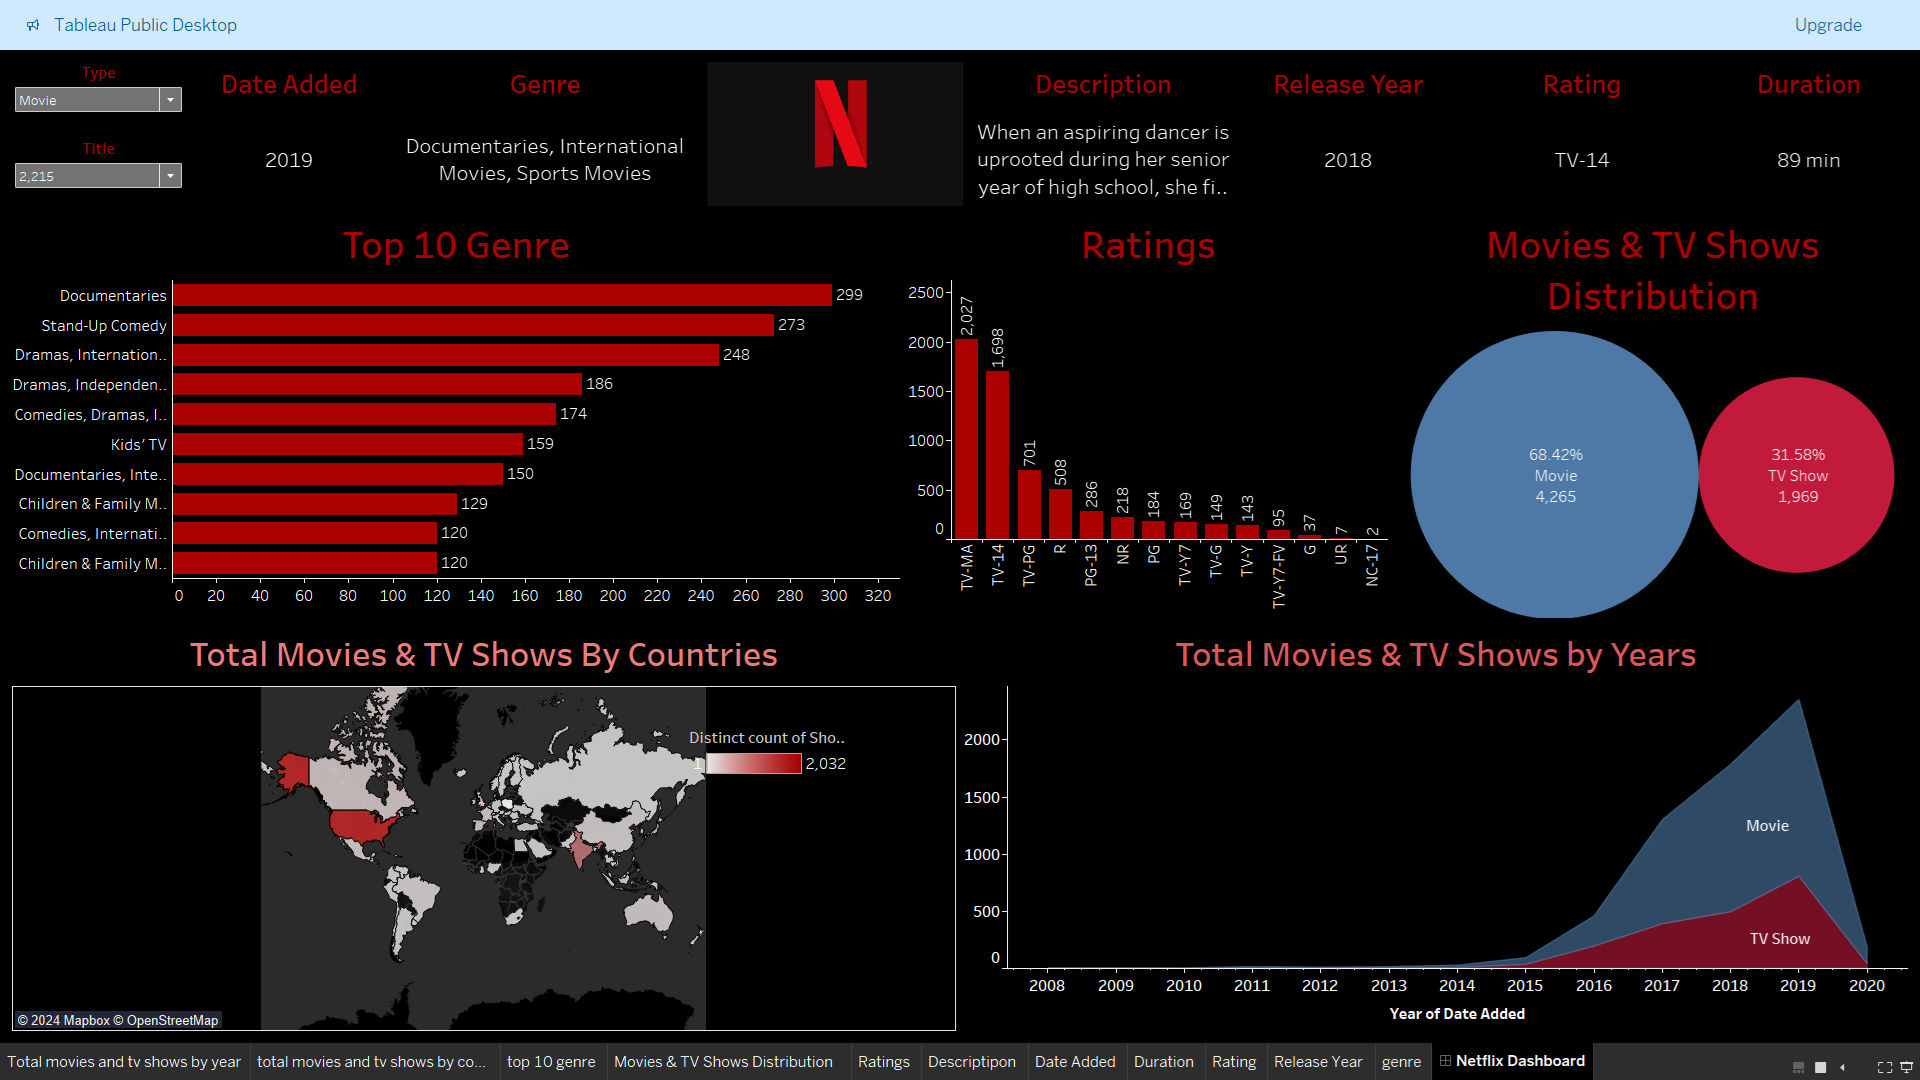

The dashboard page shown, as its layout file describes it:
{"tool":"tableau","page":{"name":"Netflix Dashboard","canvas":[1000,1000],"units":"permille","ordinal":0},"visuals":[{"type":"filter","title":"Duration","param":"[federated.0c9b0bf1ludx7x1439v7v0edgojx].[none:type:nk]","box":[4.8,10,94.1,76.2]},{"type":"worksheet","title":"Date Added","mark":"Automatic","box":[99,10,103.8,152.3]},{"type":"worksheet","title":"genre","mark":"Automatic","box":[202.8,10,162.3,152.3]},{"type":"image","param":"Image/Netflix_Image.png","box":[365.1,10,139.4,152.3]},{"type":"worksheet","title":"Descriptipon","mark":"Automatic","box":[504.5,10,139.4,152.3]},{"type":"worksheet","title":"Release Year","mark":"Automatic","box":[643.9,10,115.3,152.3]},{"type":"worksheet","title":"Rating","mark":"Automatic","box":[759.2,10,128.6,152.3]},{"type":"worksheet","title":"Duration","mark":"Automatic","box":[887.8,10,107.4,152.3]},{"type":"filter","title":"Duration","param":"[federated.0c9b0bf1ludx7x1439v7v0edgojx].[none:title:nk]","box":[4.8,86.2,94.1,76.2]},{"type":"worksheet","title":"top 10 genre","mark":"Automatic","rows":["listed_in"],"cols":["show_id"],"box":[4.8,162.3,466.1,413.9]},{"type":"worksheet","title":"Ratings","mark":"Automatic","rows":["show_id"],"cols":["rating"],"box":[470.9,162.3,254.1,413.9]},{"type":"worksheet","title":"Movies & TV Shows Distribution","mark":"Circle","box":[725,162.3,270.2,413.9]},{"type":"worksheet","title":"total movies and tv shows by countries","mark":"Multipolygon","box":[4.8,576.2,495.2,413.9]},{"type":"worksheet","title":"Total movies and tv shows by year","mark":"Area","rows":["show_id"],"cols":["date_added"],"box":[500,576.2,495.2,413.9]},{"type":"legend","title":"total movies and tv shows by countries","param":"[federated.0c9b0bf1ludx7x1439v7v0edgojx].[ctd:show_id:qk]","box":[359.1,681.6,84.5,109.9]}]}

Visuals, with their boxes on the dashboard's canvas, which has no fixed pixel size, in thousandths of its width and height (x1, y1, x2, y2). These are canvas units, not pixel positions in the 1920x1080 screenshot, which may show the page scaled, cropped or inside an application window:
"Duration" filter: locate(5, 10, 99, 86)
"Date Added" worksheet: locate(99, 10, 203, 162)
"genre" worksheet: locate(203, 10, 365, 162)
image: locate(365, 10, 504, 162)
"Descriptipon" worksheet: locate(504, 10, 644, 162)
"Release Year" worksheet: locate(644, 10, 759, 162)
"Rating" worksheet: locate(759, 10, 888, 162)
"Duration" worksheet: locate(888, 10, 995, 162)
"Duration" filter: locate(5, 86, 99, 162)
"top 10 genre" worksheet: locate(5, 162, 471, 576)
"Ratings" worksheet: locate(471, 162, 725, 576)
"Movies & TV Shows Distribution" worksheet (Circle marks): locate(725, 162, 995, 576)
"total movies and tv shows by countries" worksheet (Multipolygon marks): locate(5, 576, 500, 990)
"Total movies and tv shows by year" worksheet (Area marks): locate(500, 576, 995, 990)
"total movies and tv shows by countries" legend: locate(359, 682, 444, 792)
